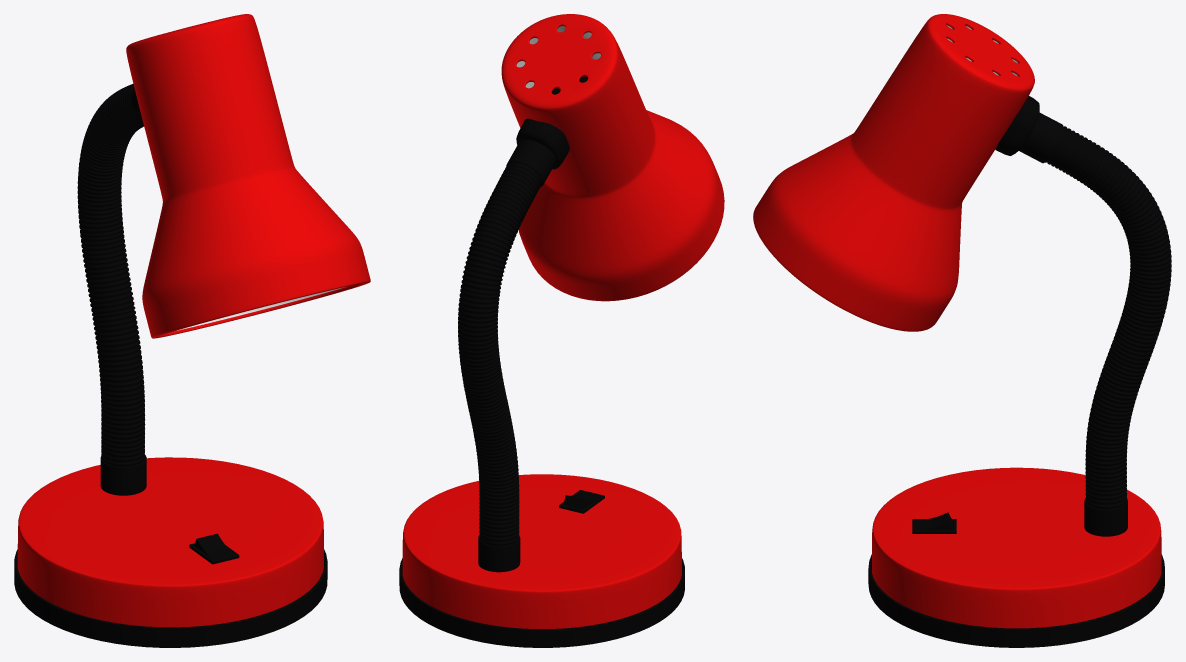
File: desk_lamp_01.fbx
3 renders of one model, left to right at view 1: azimuth 30°, elevation 25°; view 2: azimuth 150°, elevation 25°; view 3: azimuth 270°, elevation 25°, orthographic. The views are drawn at different scales.
Parts seen in each view (by area): view 1: diffuser, stand_metall, hose, stand_plastic, hose_lower_part, switcher_button; view 2: diffuser, stand_metall, hose, stand_plastic, hose_upper_part, hose_lower_part; view 3: diffuser, stand_metall, hose, stand_plastic, hose_upper_part, hose_lower_part.
Boxes of the visible parts, <box> form: diffuser: <box>126,14,370,338</box>; stand_metall: <box>17,457,323,627</box>; hose: <box>77,84,145,466</box>; stand_plastic: <box>14,549,327,647</box>; hose_lower_part: <box>100,455,146,495</box>; switcher_button: <box>194,533,234,559</box>; diffuser: <box>501,14,724,301</box>; stand_metall: <box>402,474,681,628</box>; hose: <box>458,162,542,545</box>; stand_plastic: <box>399,558,684,647</box>; hose_upper_part: <box>506,118,569,186</box>; hose_lower_part: <box>478,535,520,572</box>; diffuser: <box>753,14,1034,331</box>; stand_metall: <box>872,467,1161,628</box>; hose: <box>1045,126,1171,509</box>; stand_plastic: <box>868,554,1164,647</box>; hose_upper_part: <box>995,96,1063,163</box>; hose_lower_part: <box>1084,498,1127,536</box>.
Size of the model in its own units: 9.99 by 20.87 by 14.1.
